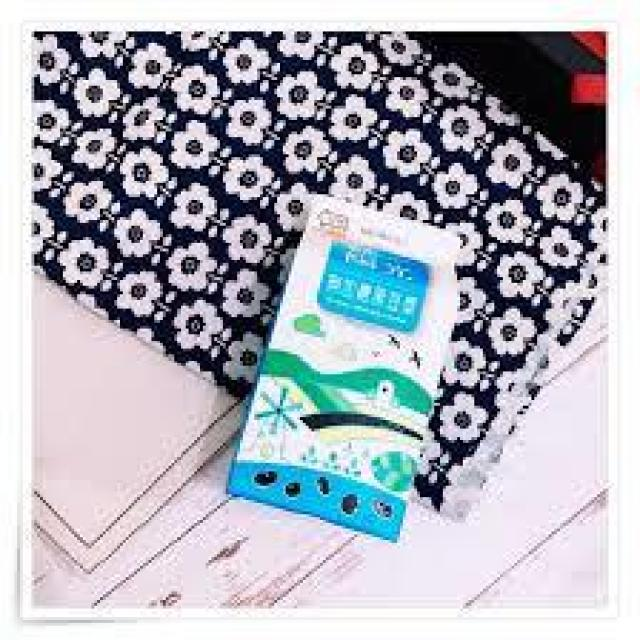TongYi_UnsweetenedBlackSoyMilk: (221, 195, 467, 560)
